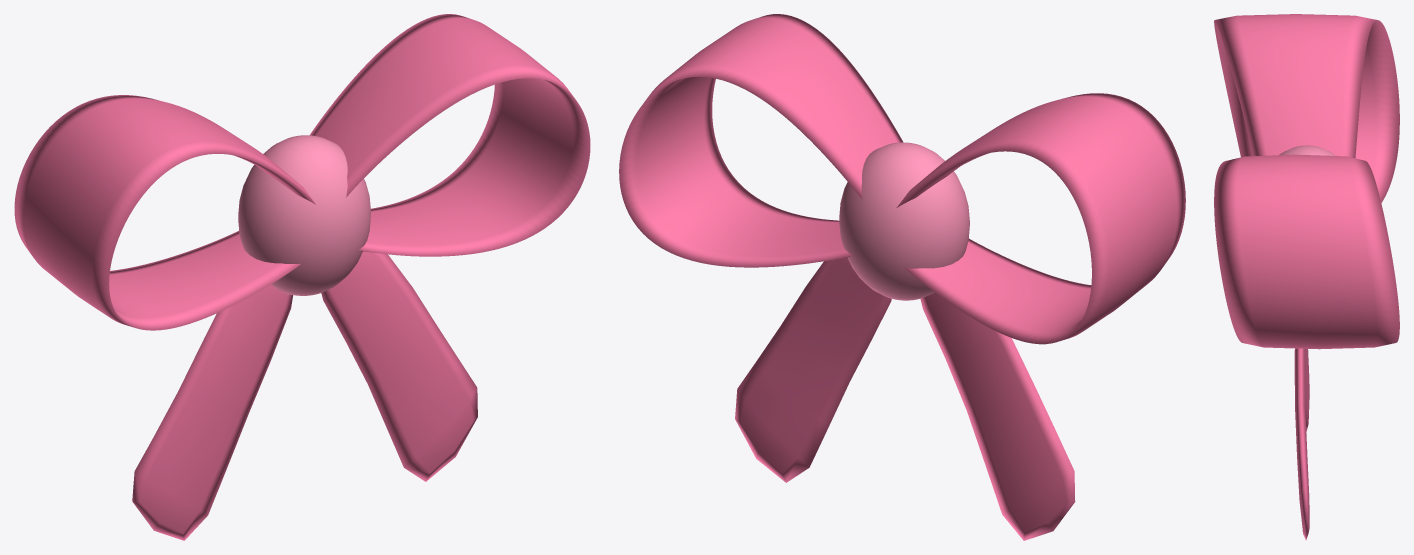
File: bow.glb
3 renders of one model, left to right at view 1: azimuth 30°, elevation 25°; view 2: azimuth 150°, elevation 25°; view 3: azimuth 270°, elevation 25°, orthographic. The views are drawn at different scales.
Visible parts, largest first — view 1: masle_smycka_1, masle_smycka_-1, masle_konec_1, masle_konec_-1, masle_uzel; view 2: masle_smycka_1, masle_smycka_-1, masle_konec_1, masle_konec_-1, masle_uzel; view 3: masle_smycka_1, masle_smycka_-1, masle_konec_1, masle_uzel, masle_konec_-1.
Boxes of the visible parts, x1,y1,x2,y2 form: masle_smycka_1: (310,14,590,256); masle_smycka_-1: (14,95,315,330); masle_konec_1: (321,251,477,481); masle_konec_-1: (132,284,292,540); masle_uzel: (238,135,370,295); masle_smycka_1: (619,14,903,267); masle_smycka_-1: (896,93,1185,344); masle_konec_1: (735,257,891,482); masle_konec_-1: (920,292,1075,540); masle_uzel: (839,142,969,300); masle_smycka_1: (1214,154,1399,349); masle_smycka_-1: (1214,14,1399,202); masle_konec_1: (1294,348,1309,540); masle_uzel: (1279,145,1335,155); masle_konec_-1: (1305,348,1309,431).
Size of the model in its own units: 0.5431 by 0.4584 by 0.1957.
